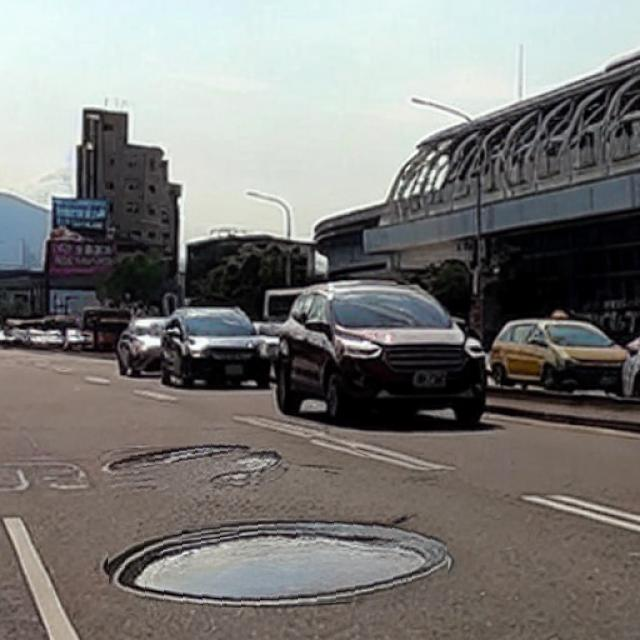puddle: (109, 517, 450, 611), (102, 438, 285, 495)
